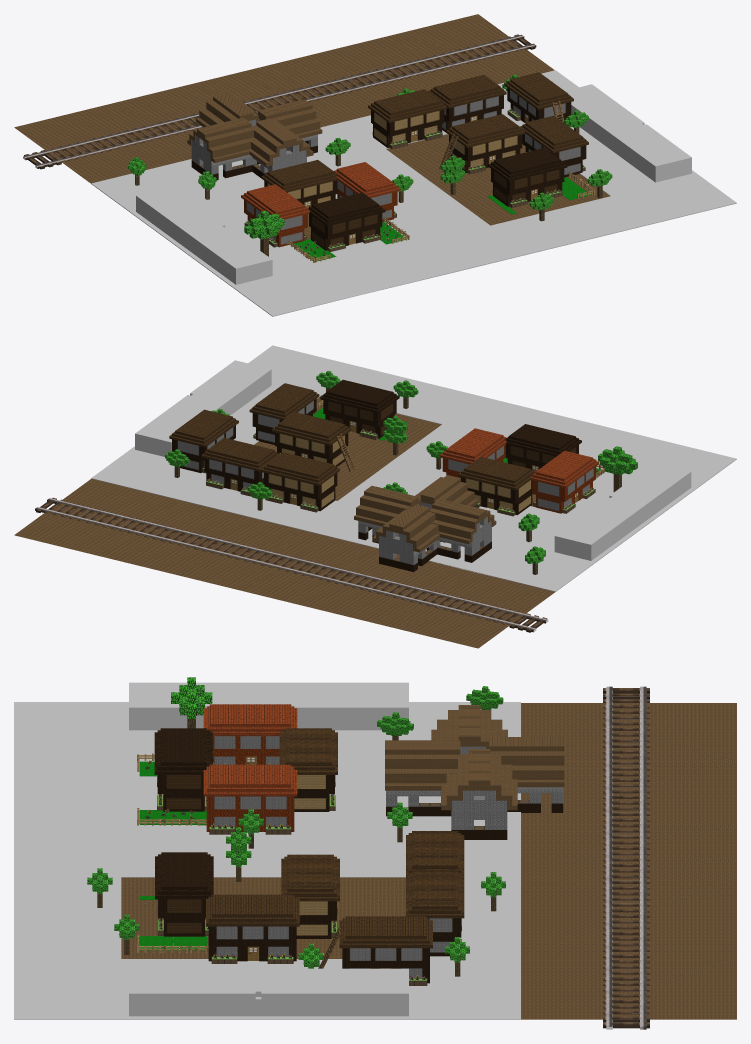
The model's file is mine.fbx.
3 views of the same model, one above another, from view 1: azimuth 30°, elevation 25°; view 2: azimuth 150°, elevation 25°; view 3: azimuth 270°, elevation 25° (orthographic). The views are drawn at different scales.
Visible parts, largest first — view 1: polySurface427, polySurface425, polySurface347, pCube17, pCube29, polySurface270, polySurface408, polySurface416, polySurface420, polySurface412, polySurface414, polySurface407 (+8 smaller); view 2: polySurface427, polySurface425, polySurface347, pCube17, pCube29, polySurface270, polySurface408, polySurface411, polySurface420, polySurface417, polySurface419, polySurface412 (+8 smaller); view 3: polySurface427, polySurface425, pCube29, polySurface347, pCube17, polySurface270, polySurface415, polySurface418, polySurface410, polySurface406, polySurface419, polySurface409 (+10 smaller).
Boxes of the visible parts, x1,y1,x2,y2 form: polySurface427: (246, 14, 736, 260); polySurface425: (14, 71, 503, 316); polySurface347: (23, 34, 536, 169); pCube17: (136, 186, 272, 284); pCube29: (565, 84, 691, 182); polySurface270: (128, 74, 612, 256); polySurface408: (368, 89, 447, 149); polySurface416: (308, 192, 385, 251); polySurface420: (488, 148, 567, 207); polySurface412: (187, 117, 257, 180); polySurface414: (446, 114, 525, 174); polySurface407: (428, 74, 506, 132); polySurface427: (14, 345, 504, 591); polySurface425: (247, 402, 736, 648); polySurface347: (35, 497, 548, 632); pCube17: (554, 462, 691, 560); pCube29: (135, 360, 271, 456); polySurface270: (165, 371, 637, 574); polySurface408: (261, 452, 339, 512); polySurface411: (372, 504, 440, 572); polySurface420: (320, 379, 399, 439); polySurface417: (458, 456, 534, 516); polySurface419: (530, 450, 599, 513); polySurface412: (427, 499, 496, 562); polySurface427: (14, 860, 736, 1019); polySurface425: (14, 702, 736, 860); pCube29: (129, 968, 408, 1016); polySurface347: (603, 686, 649, 1029); pCube17: (129, 682, 408, 730); polySurface270: (87, 677, 505, 976); polySurface415: (206, 894, 299, 963); polySurface418: (203, 764, 297, 834); polySurface410: (441, 749, 517, 839); polySurface406: (339, 916, 432, 985); polySurface419: (203, 704, 297, 764); polySurface409: (385, 740, 460, 816).
Size of the model in its own units: 109 by 9.63 by 97.92.
